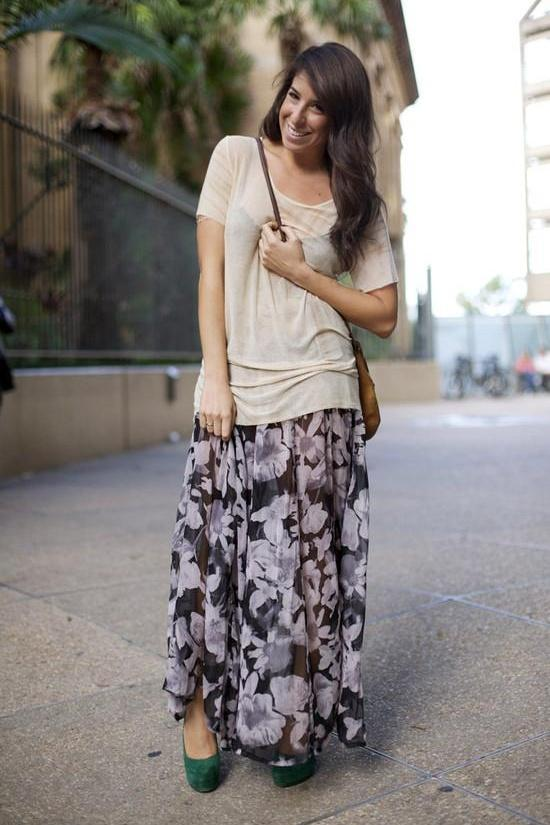Tshirt: (194, 136, 400, 428)
skirt: (162, 390, 370, 765)
